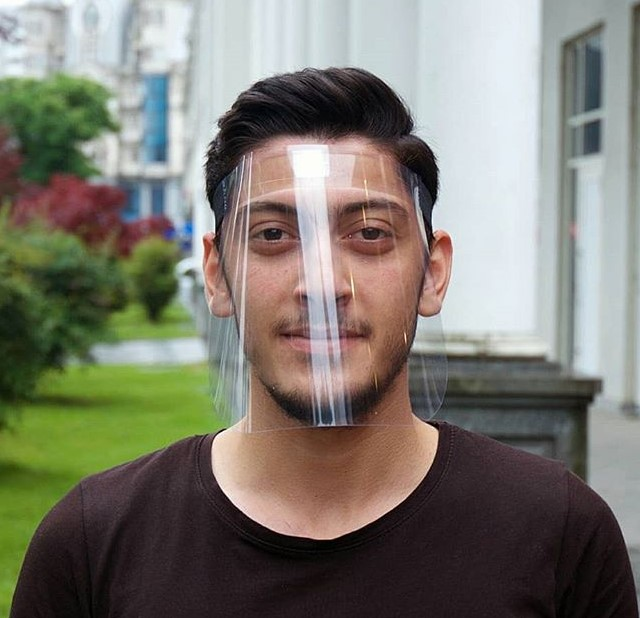face_with_mask: (214, 124, 420, 411)
